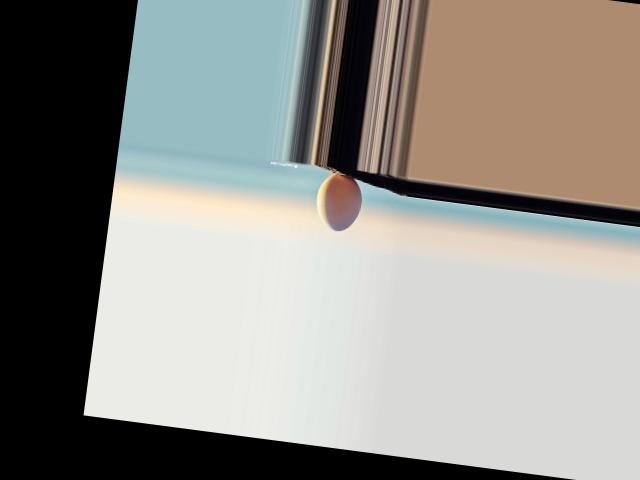egg: (312, 171, 365, 233)
